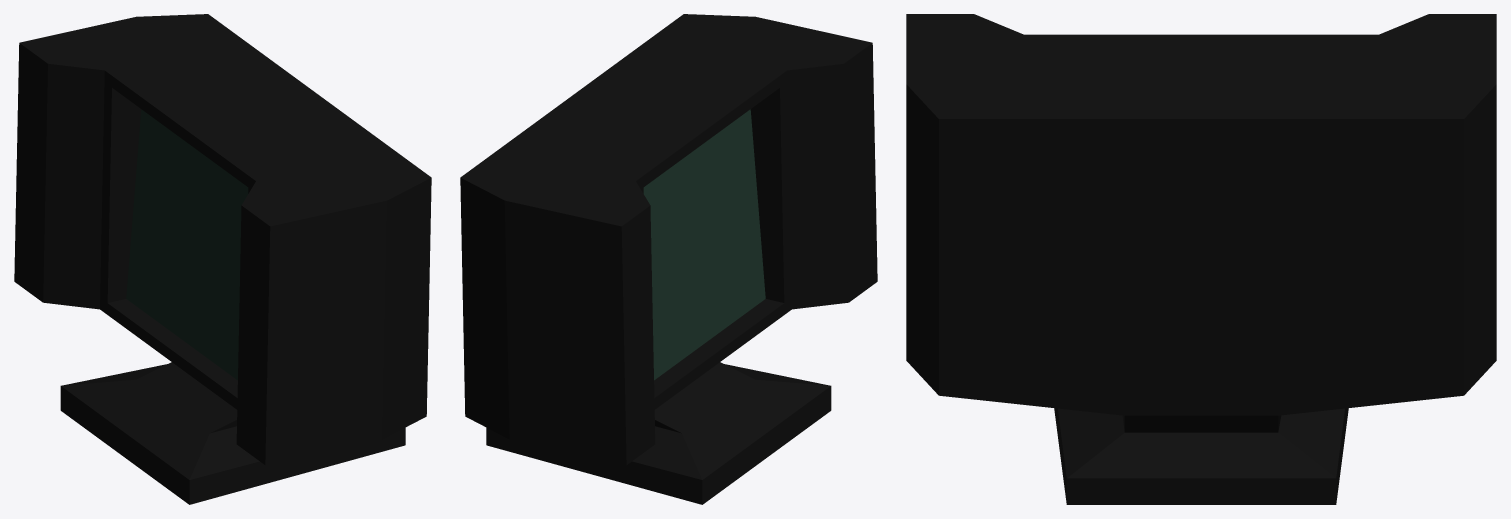
Rendered from Computer-Monitor-1.glb.
3 renders of one model, left to right at view 1: azimuth 30°, elevation 25°; view 2: azimuth 150°, elevation 25°; view 3: azimuth 270°, elevation 25°, orthographic. The views are drawn at different scales.
Visible parts, largest first — view 1: Computer-Monitor-1; view 2: Computer-Monitor-1; view 3: Computer-Monitor-1.
Boxes of the visible parts, left/top/right/bottom form: Computer-Monitor-1: left=14, top=14, right=431, bottom=504; Computer-Monitor-1: left=460, top=14, right=877, bottom=504; Computer-Monitor-1: left=906, top=14, right=1496, bottom=504.
Size of the model in its own units: 0.2187 by 0.2983 by 0.4263.
